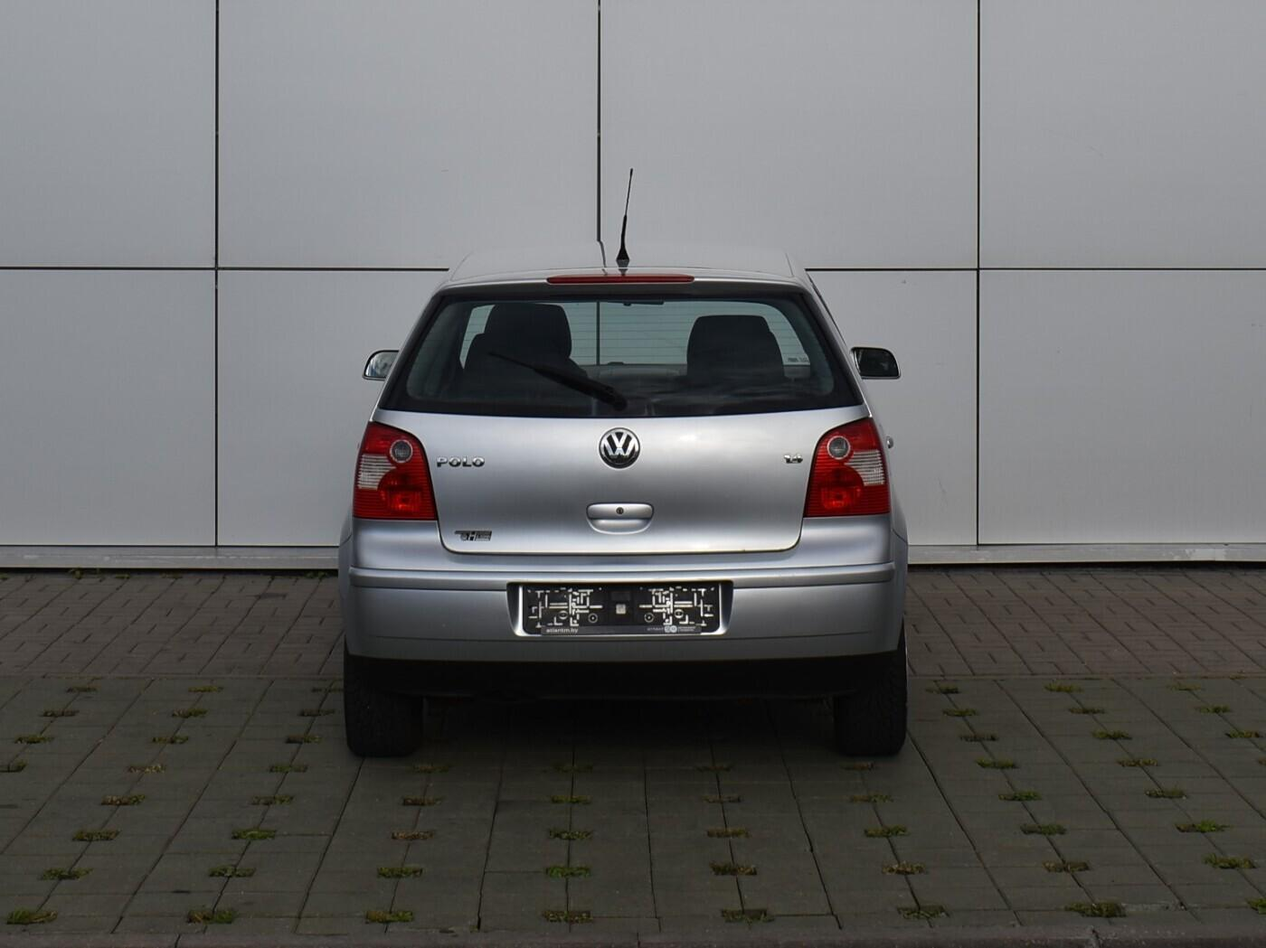Polo_2001-2005: (336, 243, 954, 785)
